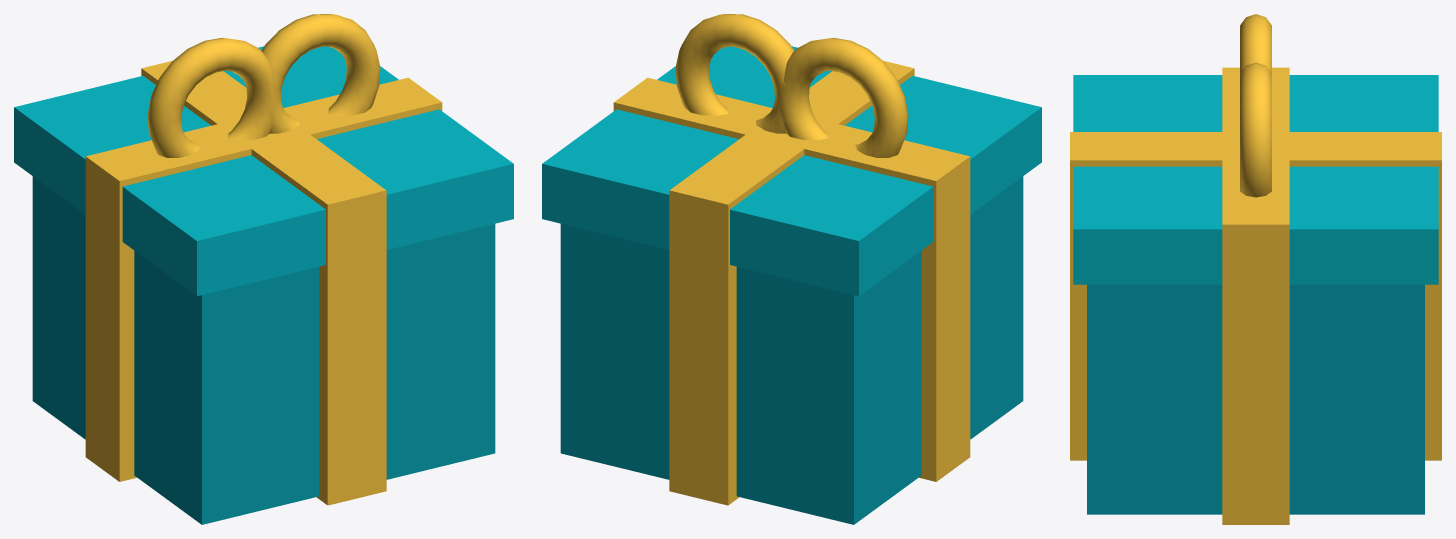
Rendered from gift.glb.
3 views of the same model, side by side, from view 1: azimuth 30°, elevation 25°; view 2: azimuth 150°, elevation 25°; view 3: azimuth 270°, elevation 25° (orthographic).
Visible parts, largest first — view 1: gift; view 2: gift; view 3: gift.
Part boxes in pixels (x1,y1,x2,y2): gift: (14, 14, 513, 524); gift: (542, 14, 1041, 524); gift: (1070, 14, 1441, 524).
Size of the model in its own units: 0.7933 by 0.9444 by 0.7933.
